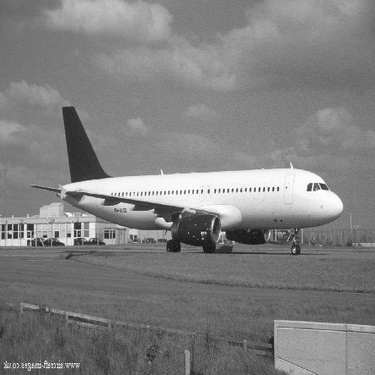airplane: (1, 91, 352, 260)
